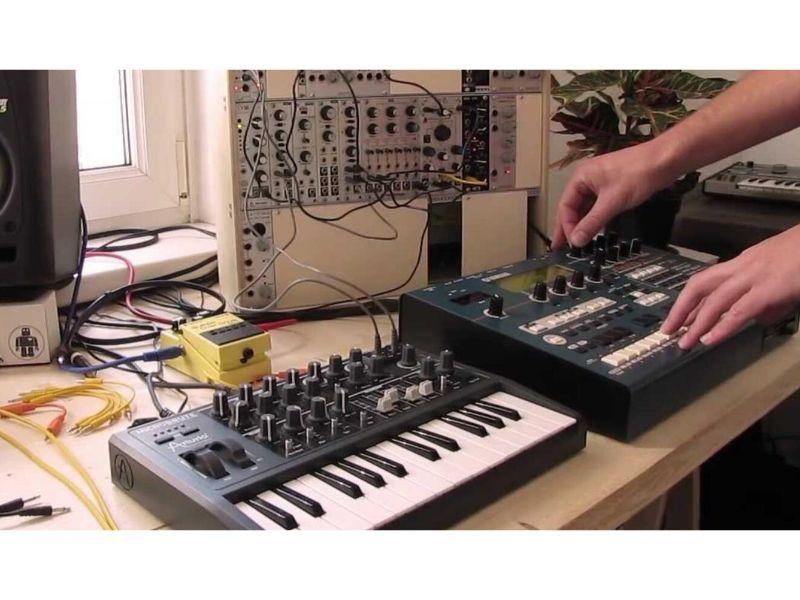synthesizer: (115, 358, 586, 515)
